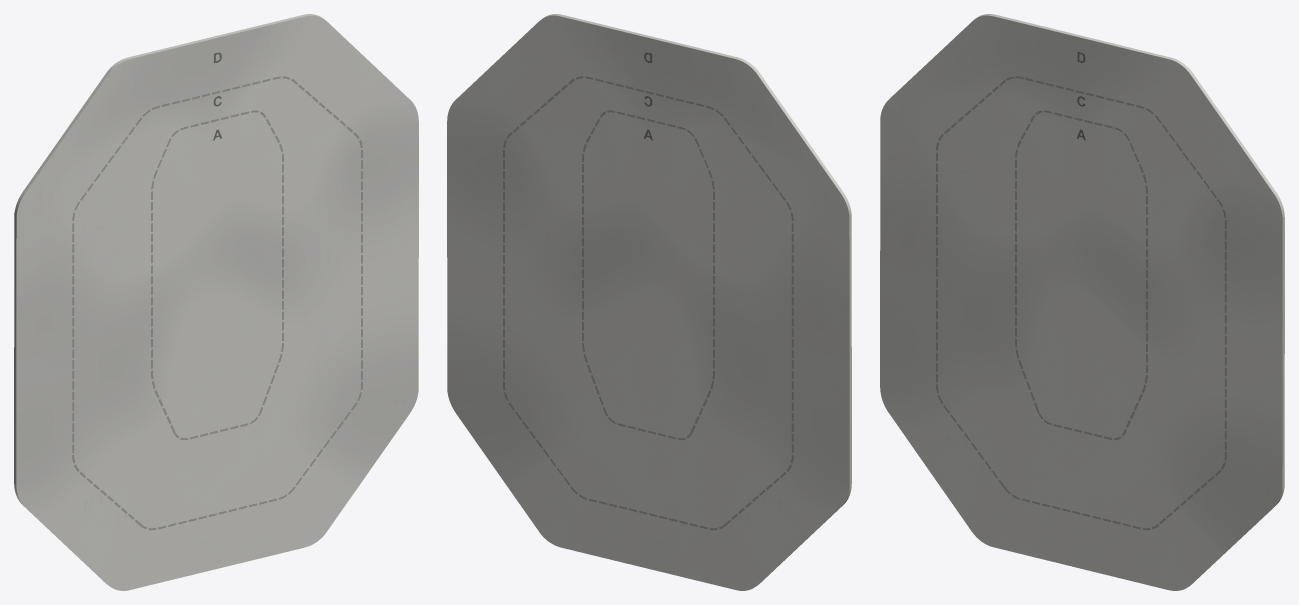
File: obj_no_shoot_overlay.glb
The picture shows the model from 3 angles, left to right: view 1: azimuth 30°, elevation 25°; view 2: azimuth 150°, elevation 25°; view 3: azimuth 330°, elevation 25°; orthographic projection.
Parts seen in each view (by area): view 1: card; view 2: card; view 3: card.
Boxes of the visible parts, x1,y1,x2,y2 form: card: [14, 14, 418, 590]; card: [447, 14, 851, 590]; card: [880, 14, 1284, 590].
Size of the model in its own units: 0.46 by 0.58 by 0.0045.
2 materials, 1 textured.
